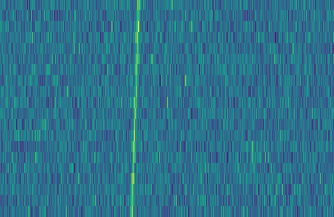signal: (127, 0, 143, 217)
